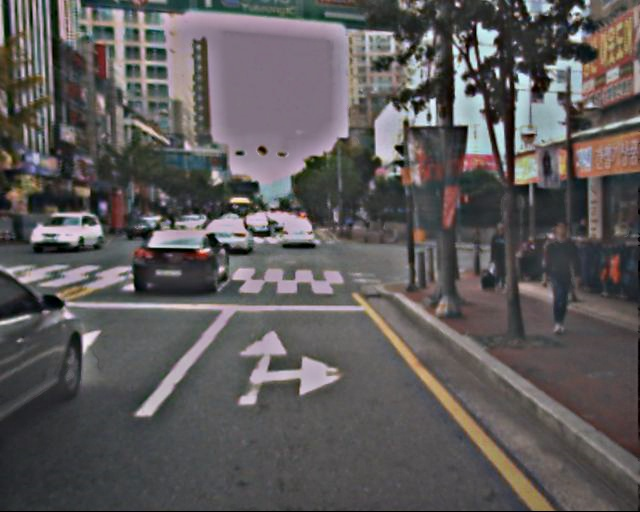person: (534, 221, 587, 333), (486, 222, 516, 295)
